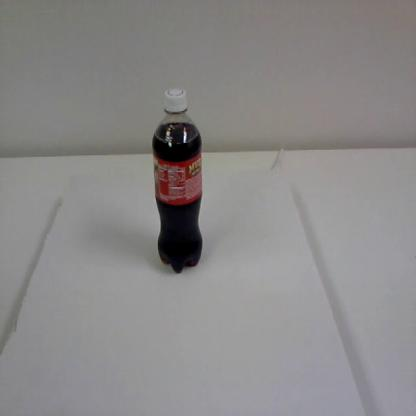bottle: (151, 86, 206, 276)
